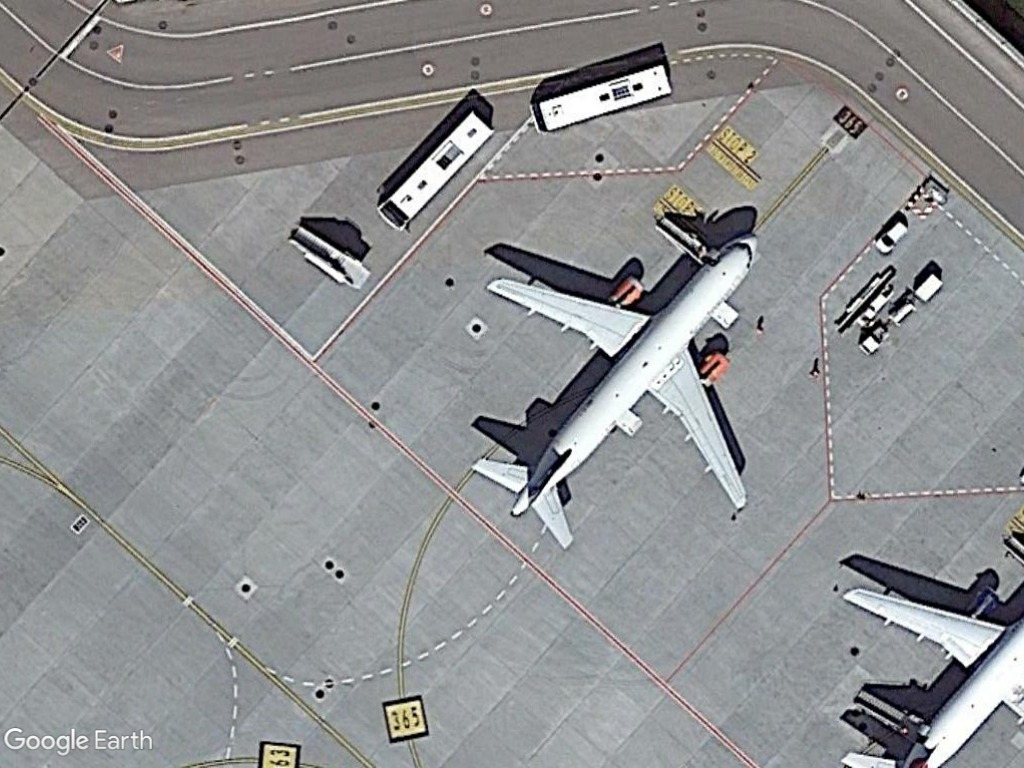airliner: (466, 228, 768, 552)
bus: (370, 108, 502, 240), (526, 60, 679, 139)
stairtruck: (284, 221, 373, 294), (652, 210, 712, 265)
van: (872, 220, 912, 258)
